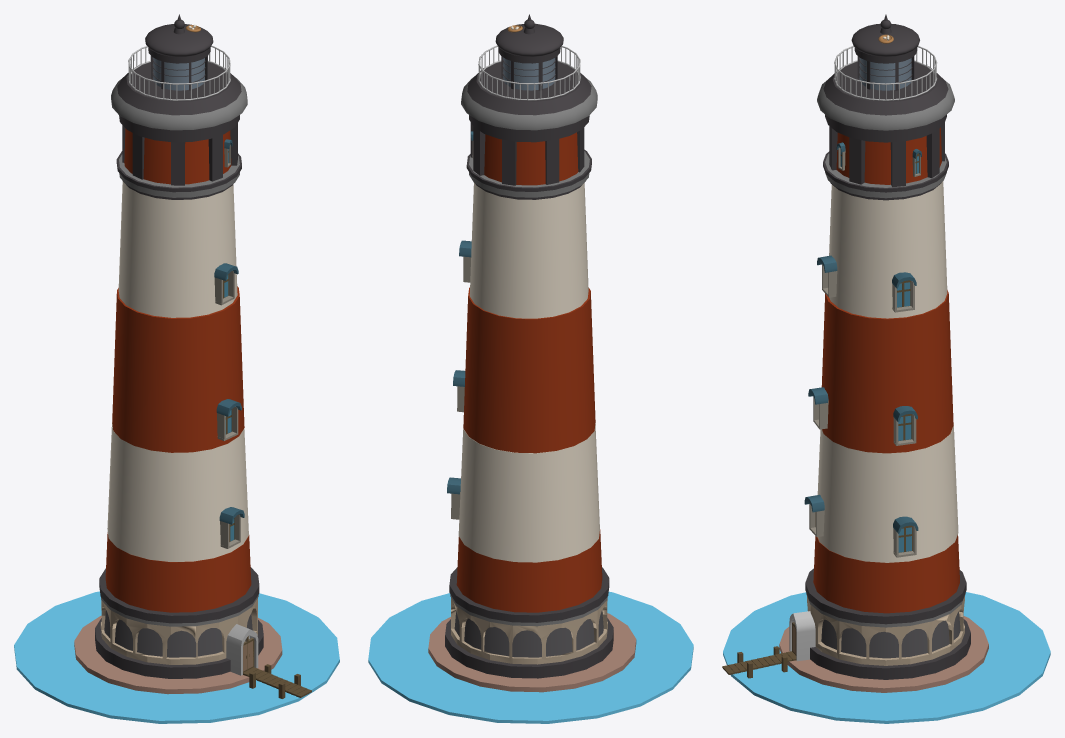
File: lighthouse.glb
The picture shows the model from 3 angles, left to right: view 1: azimuth 30°, elevation 25°; view 2: azimuth 150°, elevation 25°; view 3: azimuth 270°, elevation 25°; orthographic projection.
Parts seen in each view (by area): view 1: pCylinder47; view 2: pCylinder47; view 3: pCylinder47.
Part boxes in pixels (left/top/right/bottom): pCylinder47: left=14, top=14, right=339, bottom=723; pCylinder47: left=368, top=14, right=693, bottom=723; pCylinder47: left=722, top=14, right=1050, bottom=723.
Size of the model in its own units: 12.91 by 27.89 by 12.94.
